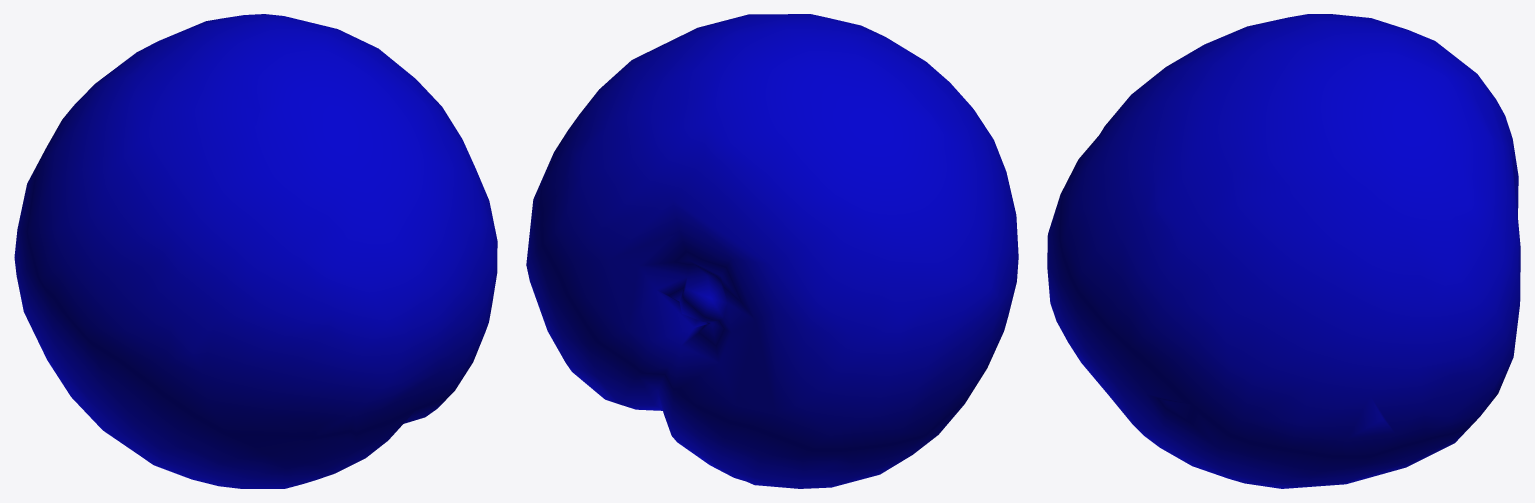
File: 08194_sparse_textured_ok.obj
3 views of the same model, side by side, from view 1: azimuth 30°, elevation 25°; view 2: azimuth 150°, elevation 25°; view 3: azimuth 270°, elevation 25° (orthographic). The views are drawn at different scales.
Parts seen in each view (by area): view 1: textured_ok; view 2: textured_ok; view 3: textured_ok.
Part boxes in pixels (left/top/right/bottom): textured_ok: left=14, top=14, right=497, bottom=488; textured_ok: left=526, top=14, right=1018, bottom=488; textured_ok: left=1047, top=14, right=1520, bottom=488.
Bounding box in the file's own units: 0.0572 × 0.0549 × 0.053.
